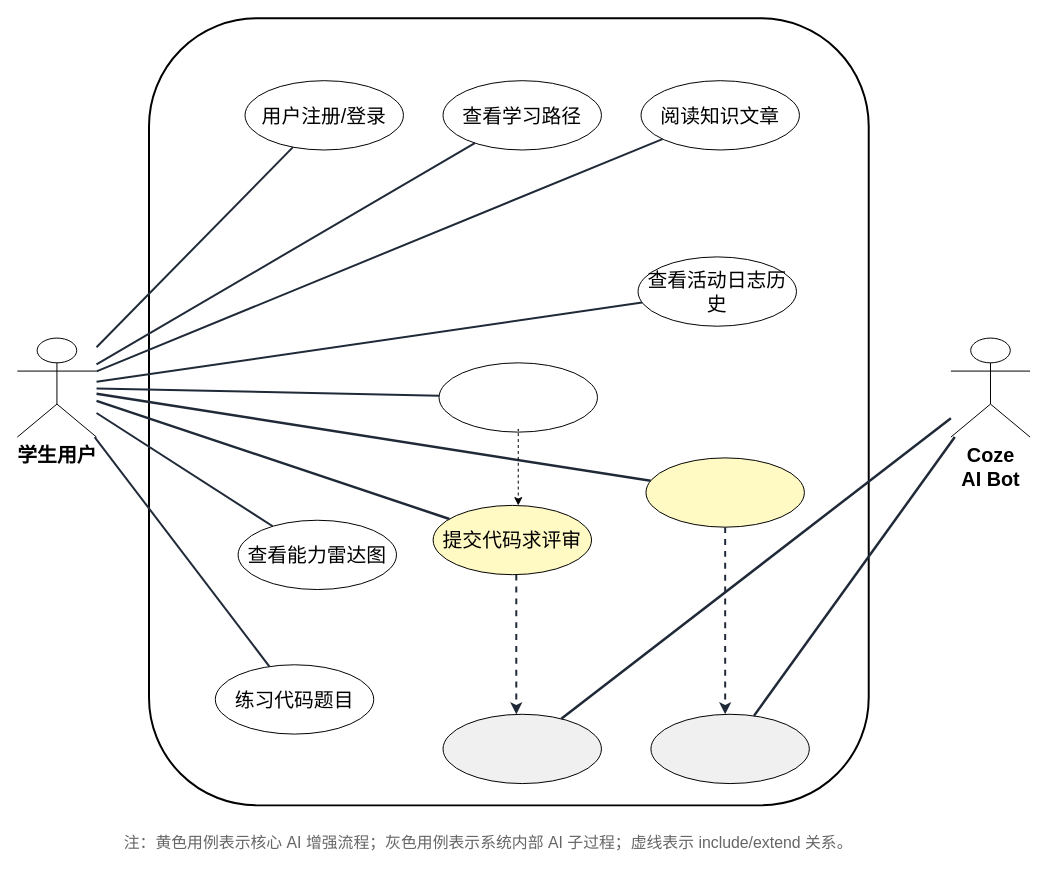
The diagram is 1047 pixels wide and 893 high, and some of its shapes have lost their labels. Each missing label, with the centre of its shape:
"执行 AI 代码审查" goes at (521,748).
"查看成就解锁情况" goes at (517,397).
"模拟面试" goes at (724,492).
"进行 AI 多轮对话与评估" goes at (729,748).
